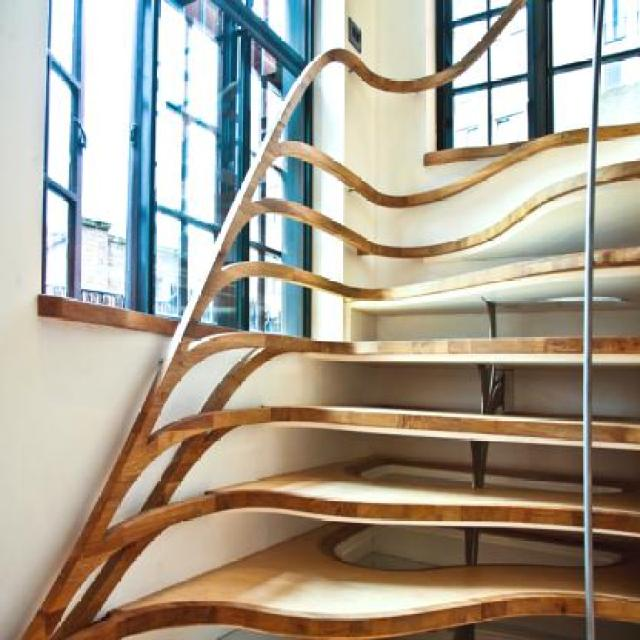stair: (0, 35, 640, 639)
